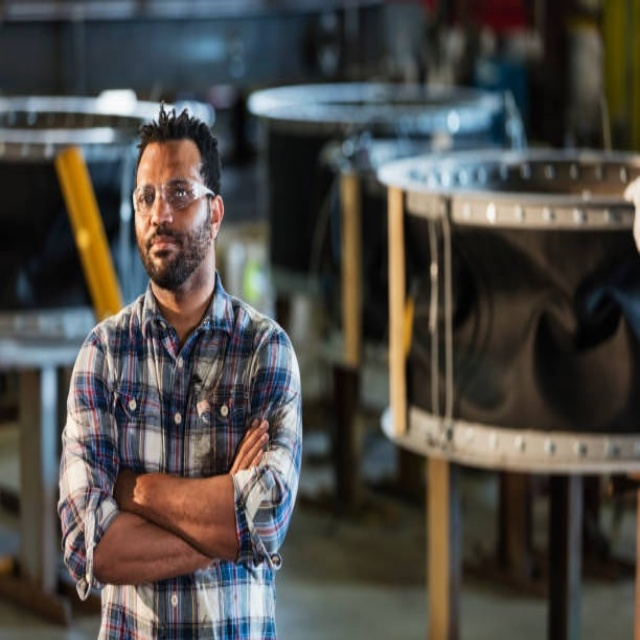Gafas: (133, 179, 217, 215)
Sin_guantes: (230, 415, 271, 477)
Sin_mascara: (143, 229, 184, 268)
